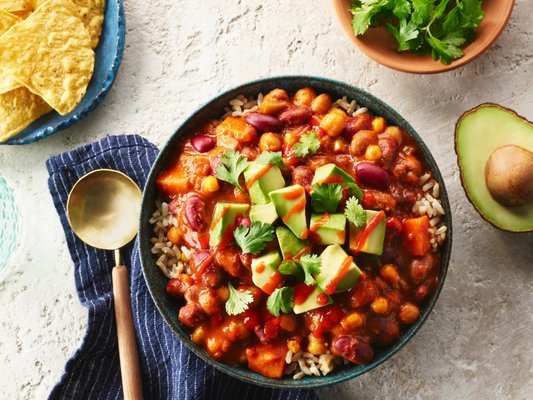salad: (60, 164, 155, 400), (66, 168, 143, 252)
sushi: (143, 72, 454, 392), (332, 0, 516, 74)
